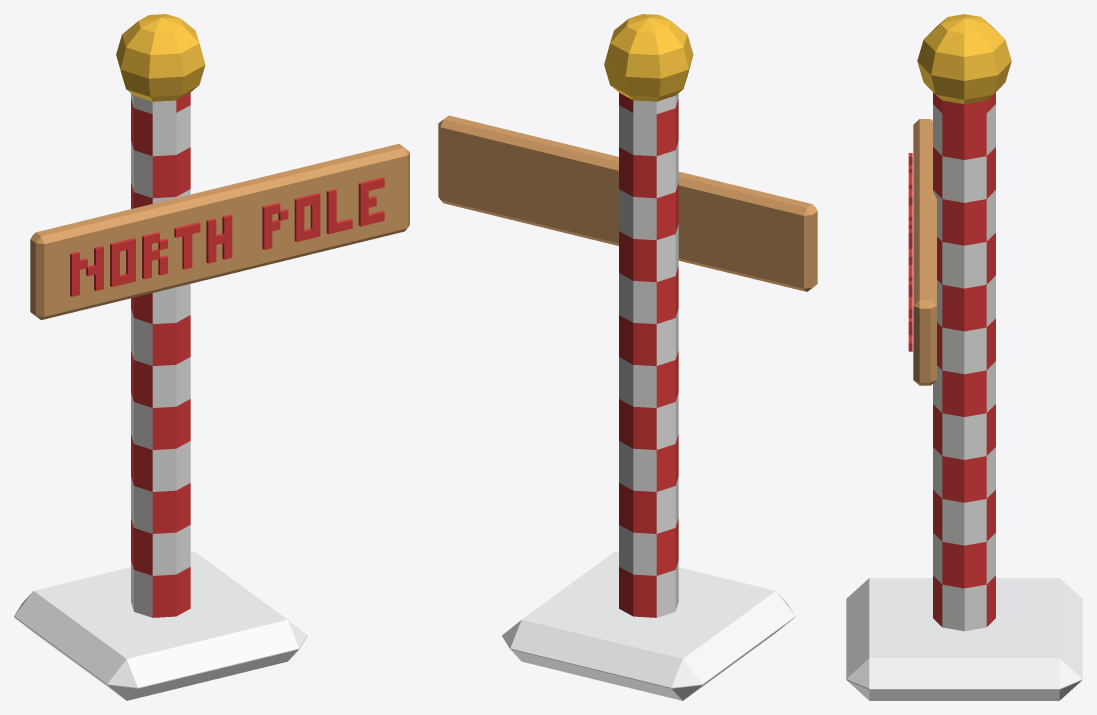
The model's file is NorthPoleSign.fbx.
3 views of the same model, side by side, from view 1: azimuth 30°, elevation 25°; view 2: azimuth 150°, elevation 25°; view 3: azimuth 270°, elevation 25° (orthographic). The views are drawn at different scales.
Parts seen in each view (by area): view 1: NorthPoleSign; view 2: NorthPoleSign; view 3: NorthPoleSign.
Part boxes in pixels (x1=…): NorthPoleSign: x1=14, y1=14, x2=409, y2=700; NorthPoleSign: x1=438, y1=14, x2=817, y2=700; NorthPoleSign: x1=846, y1=14, x2=1082, y2=700.
Size of the model in its own units: 5.6 by 9 by 3.
1 material, 1 textured.
